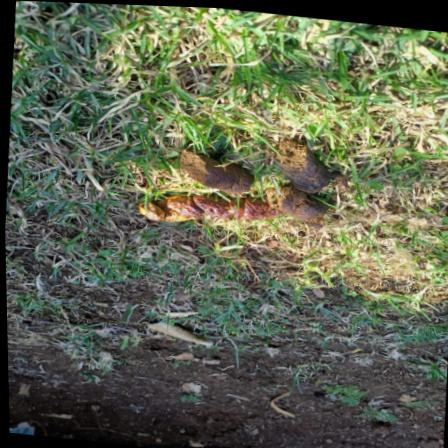dog-poop: (124, 116, 369, 250)
